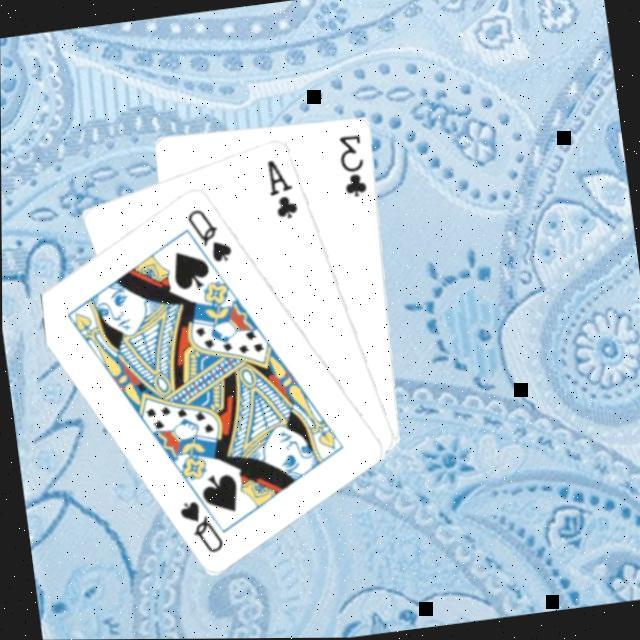3C: (334, 128, 372, 199)
AC: (262, 152, 302, 222)
QS: (182, 198, 236, 266), (175, 492, 228, 558)
